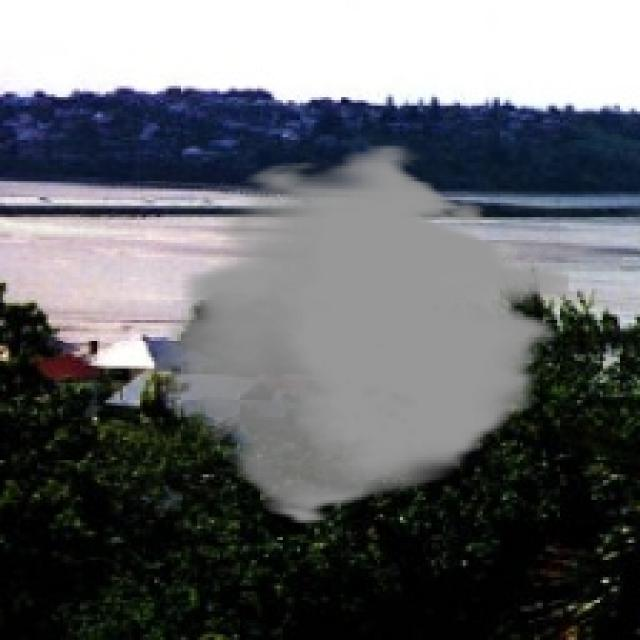smoke: (157, 143, 569, 526)
